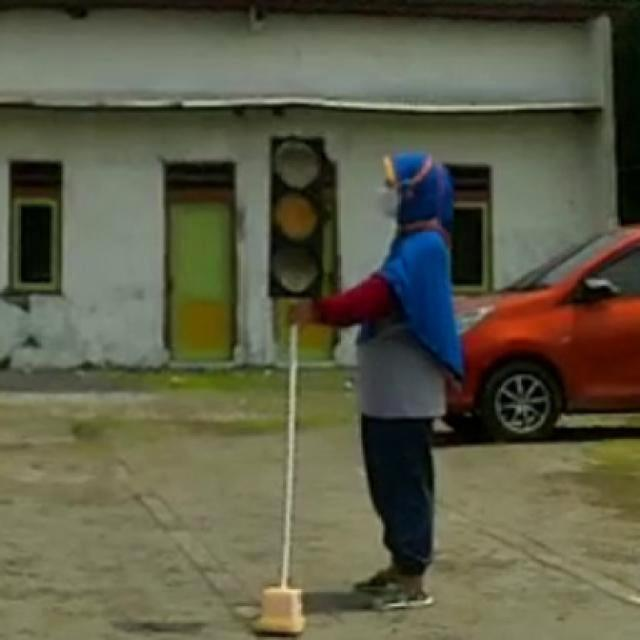Yellow: (266, 129, 342, 318)
